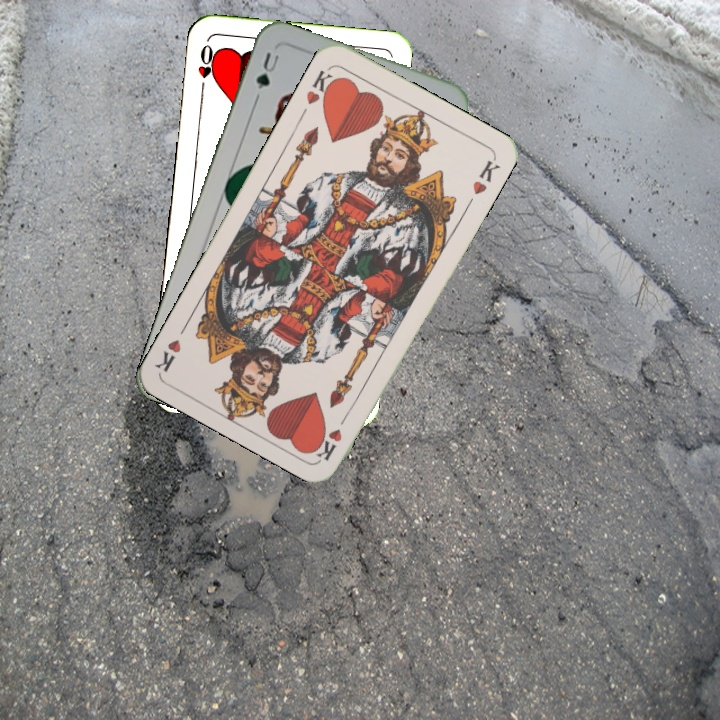GU: (251, 48, 282, 102)
HK: (313, 407, 352, 463), (302, 64, 340, 108)
HO: (193, 41, 217, 98)
